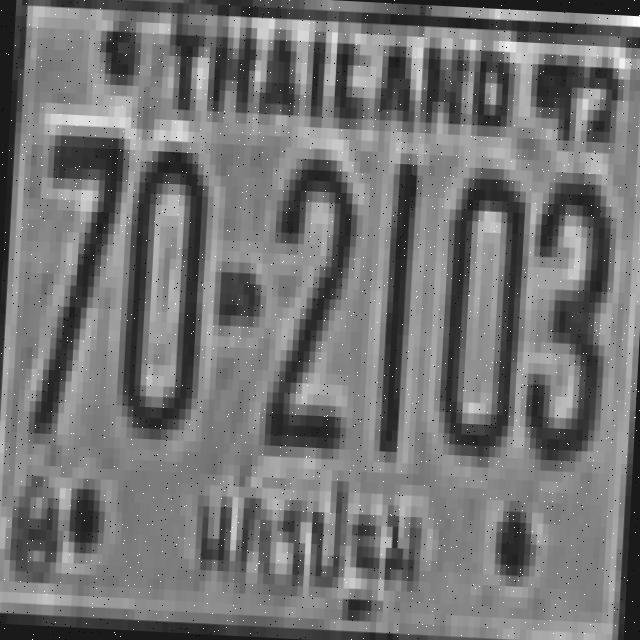0: (432, 161, 527, 453), (115, 139, 205, 431)
1: (370, 152, 416, 452), (374, 164, 412, 452)
2: (262, 147, 358, 449)
3: (518, 165, 614, 458)
7: (29, 118, 126, 432)
NakhonPathom: (176, 454, 425, 626)
